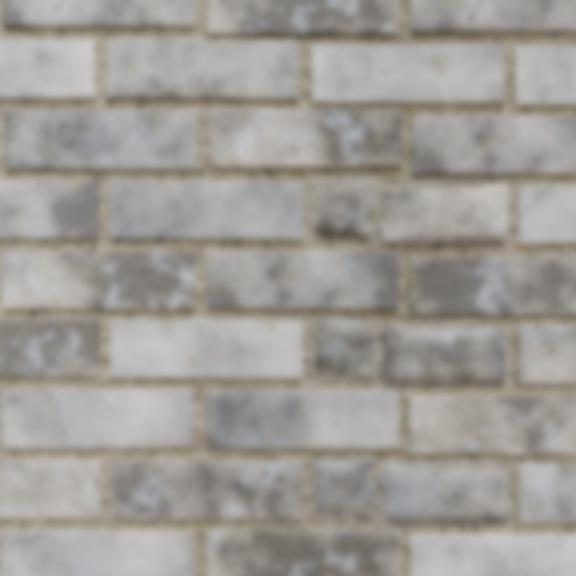brick: (110, 460, 302, 519), (5, 111, 196, 169), (209, 109, 400, 167), (105, 40, 296, 98), (110, 181, 301, 239), (110, 319, 301, 377), (2, 389, 193, 447), (311, 45, 503, 102), (3, 251, 194, 308), (207, 390, 397, 447), (207, 251, 397, 308), (409, 396, 575, 453), (412, 116, 575, 174), (409, 257, 575, 313), (207, 529, 397, 575), (1, 531, 192, 575), (409, 534, 575, 575), (207, 0, 398, 34), (0, 460, 99, 518), (0, 318, 97, 376), (0, 181, 97, 238), (0, 41, 93, 98), (410, 0, 575, 32), (2, 0, 194, 27), (515, 47, 575, 104), (517, 464, 575, 522), (517, 326, 575, 382), (518, 186, 575, 242), (1, 531, 43, 550), (518, 186, 547, 213), (1, 390, 25, 405)
broken_brick: (379, 463, 508, 523), (379, 184, 508, 243), (380, 325, 505, 383), (314, 318, 373, 377), (315, 458, 373, 518), (315, 179, 374, 237)
crack: (0, 531, 54, 573), (0, 389, 53, 426), (233, 468, 267, 520), (365, 185, 386, 240), (365, 461, 385, 517), (517, 185, 552, 217), (551, 276, 575, 314), (367, 332, 385, 381), (68, 497, 98, 518), (466, 0, 483, 21), (78, 476, 99, 492), (465, 228, 475, 243), (53, 0, 63, 12), (205, 403, 213, 413)
